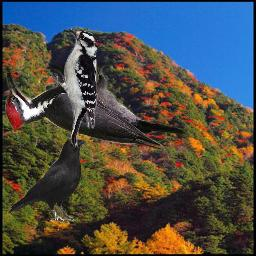Crow: (7, 136, 87, 224)
Woodpecker: (5, 63, 185, 151), (43, 27, 99, 148)
